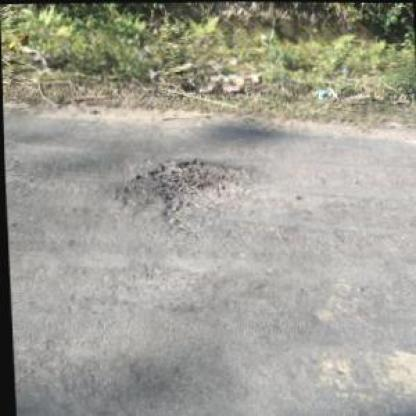pothole: (138, 157, 256, 226)
